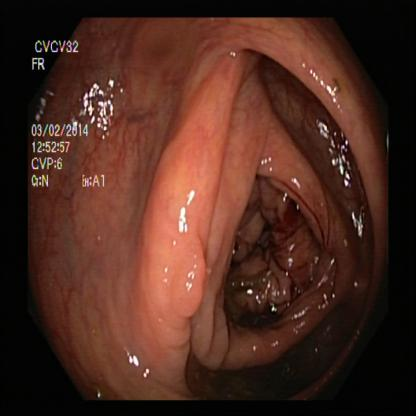Labels: (27, 30, 110, 194)
Polyps: (145, 132, 217, 341)
